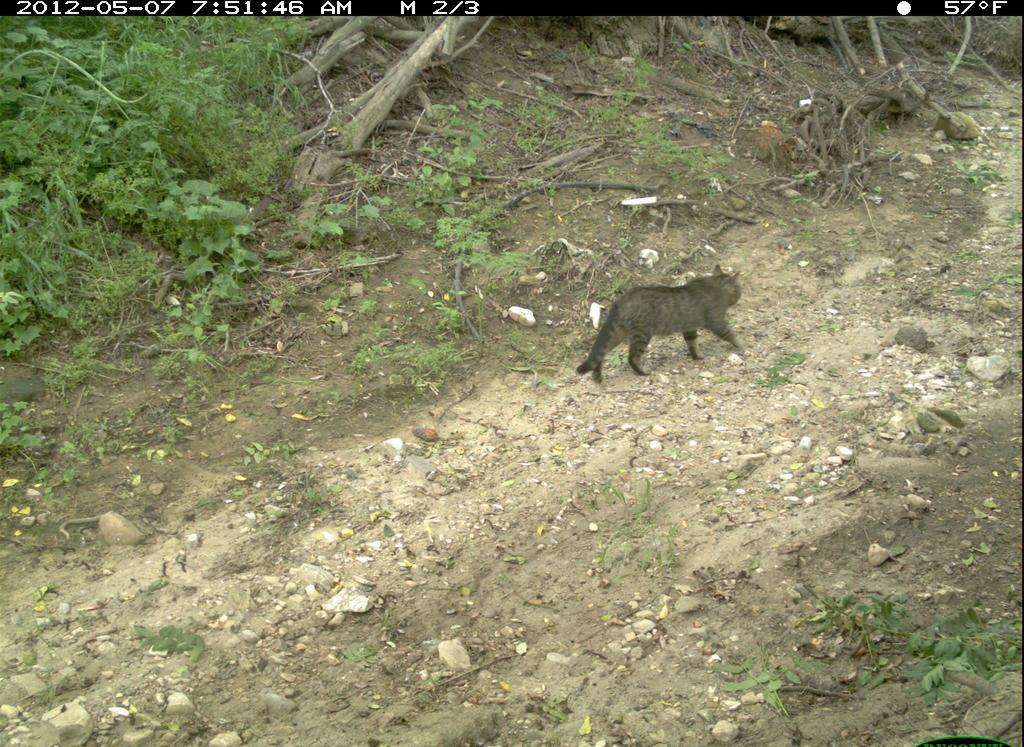cat: (572, 263, 755, 383)
